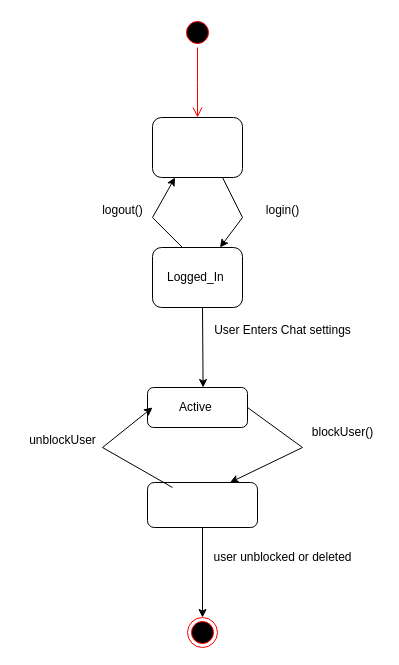
Image size: 399x665. Some labels were removed from this diagram. The shapes that lost their labels are listed below. From the top down, each one's centre as x and y in pixels, then its label:
At pixel 197 147: "Logged_Out".
At pixel 202 505: "Blocked".
